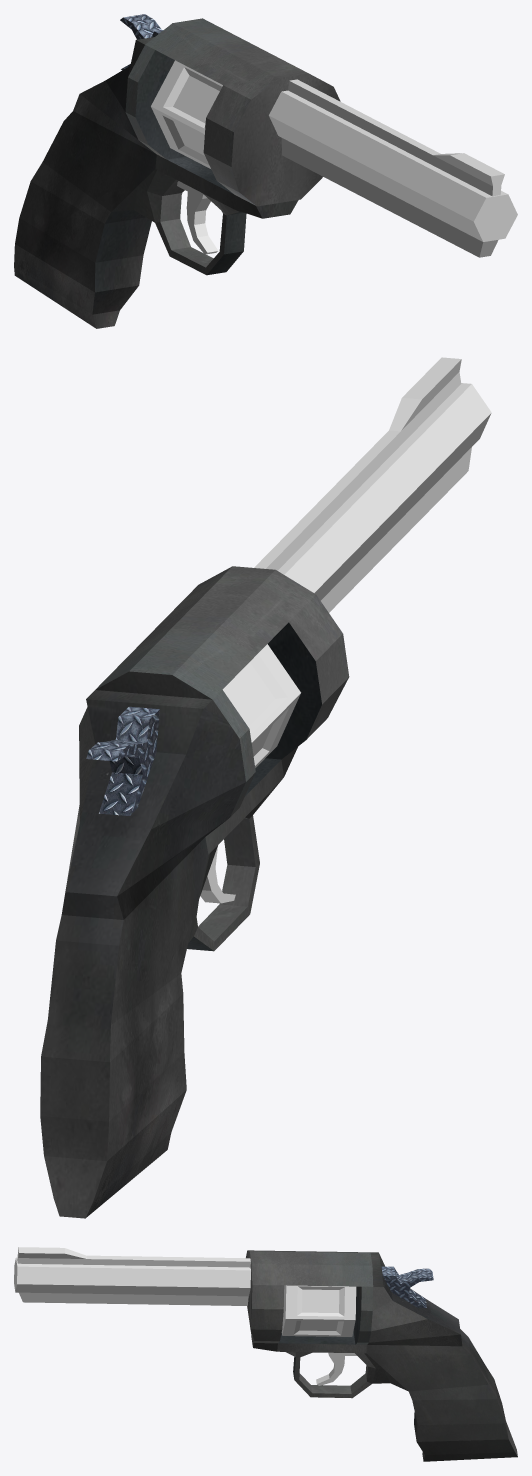
Rendered from Revolver.fbx.
The picture shows the model from 3 angles, top to bottom: view 1: azimuth 30°, elevation 25°; view 2: azimuth 150°, elevation 25°; view 3: azimuth 270°, elevation 25°; orthographic projection. The views are drawn at different scales.
Parts seen in each view (by area): view 1: Revolver; view 2: Revolver; view 3: Revolver.
Boxes of the visible parts, x1,y1,x2,y2 form: Revolver: (14,14,517,328); Revolver: (40,357,491,1218); Revolver: (14,1247,517,1461).
Size of the model in its own units: 5.86 by 14.76 by 28.63.
3 materials, 2 textured.
